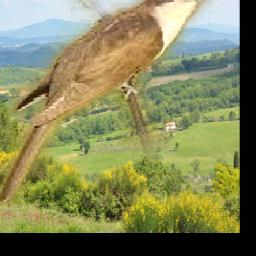Cuckoo: (0, 0, 214, 205)
